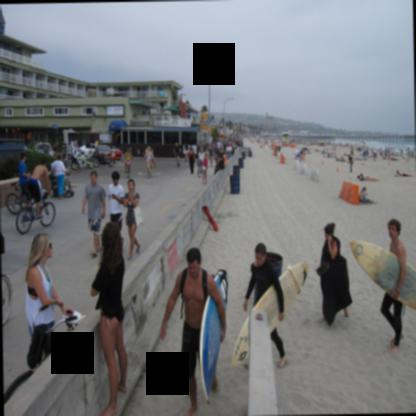backpack: (180, 265, 207, 319)
handbag: (132, 204, 142, 227)
